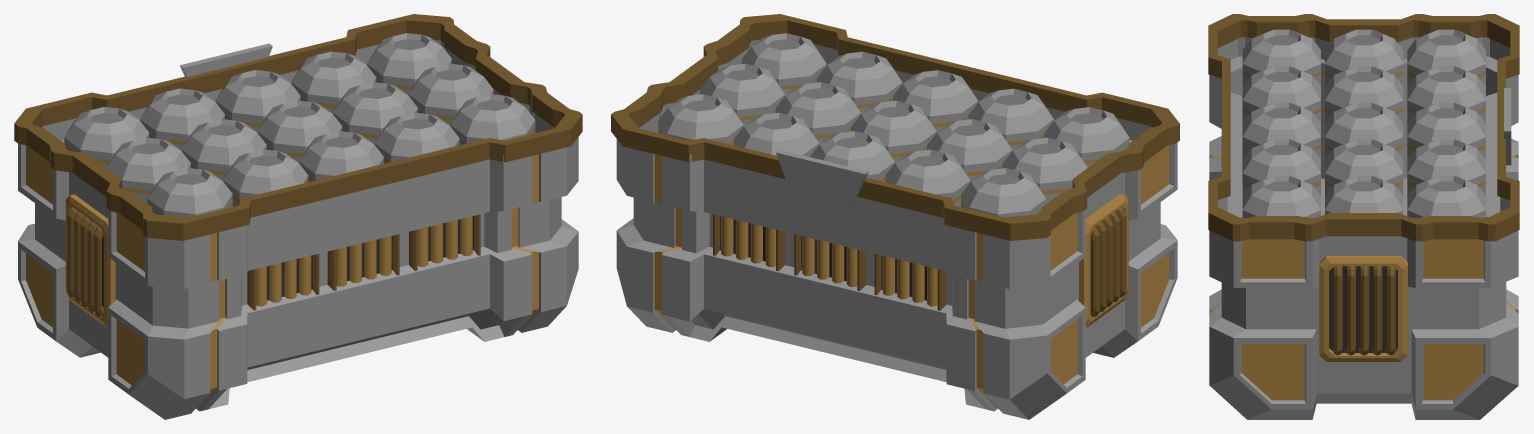
The model's file is Props_ContainerFull.glb.
The picture shows the model from 3 angles, left to right: view 1: azimuth 30°, elevation 25°; view 2: azimuth 150°, elevation 25°; view 3: azimuth 270°, elevation 25°; orthographic projection.
Parts seen in each view (by area): view 1: Black; view 2: Black; view 3: Black.
Part boxes in pixels (x1=…): Black: x1=14, y1=14, x2=582, y2=419; Black: x1=611, y1=14, x2=1179, y2=419; Black: x1=1208, y1=14, x2=1519, y2=419.
Bounding box in the file's own units: 1.2 × 0.5824 × 0.7517.
1 material, 1 textured.
